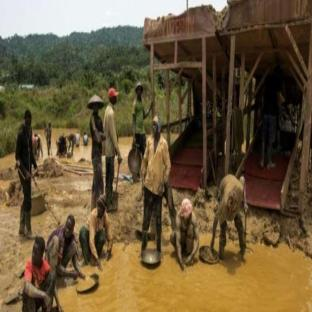Person: (144, 112, 169, 269), (214, 173, 255, 267), (19, 227, 60, 312), (20, 100, 42, 238), (83, 82, 107, 199), (45, 220, 82, 284), (176, 190, 202, 272), (84, 200, 117, 261), (132, 78, 148, 170)
ProcessingEquipment: (218, 2, 312, 221), (142, 5, 227, 196)
